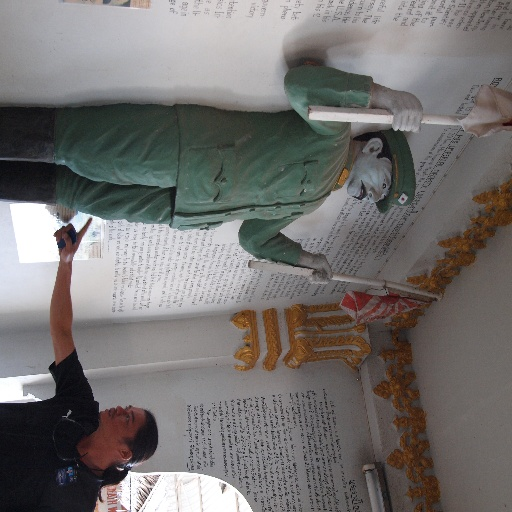hand: (381, 74, 429, 125), (53, 215, 93, 262), (306, 252, 333, 285)
